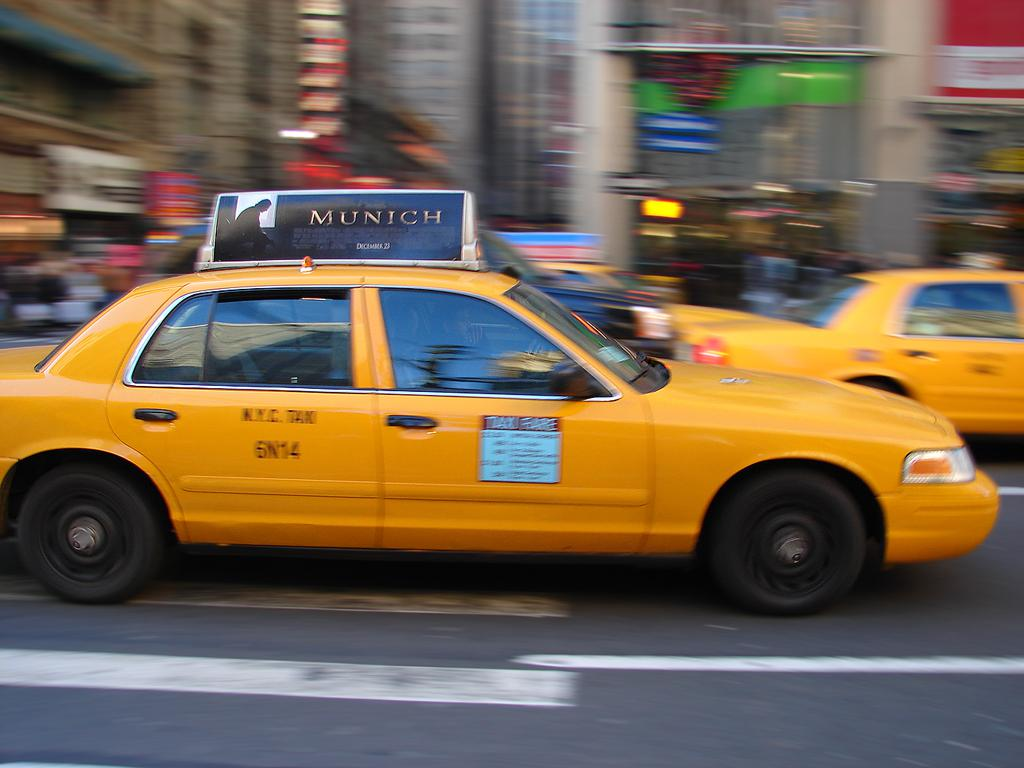taxi: (1, 191, 1001, 619), (686, 270, 1024, 437)
